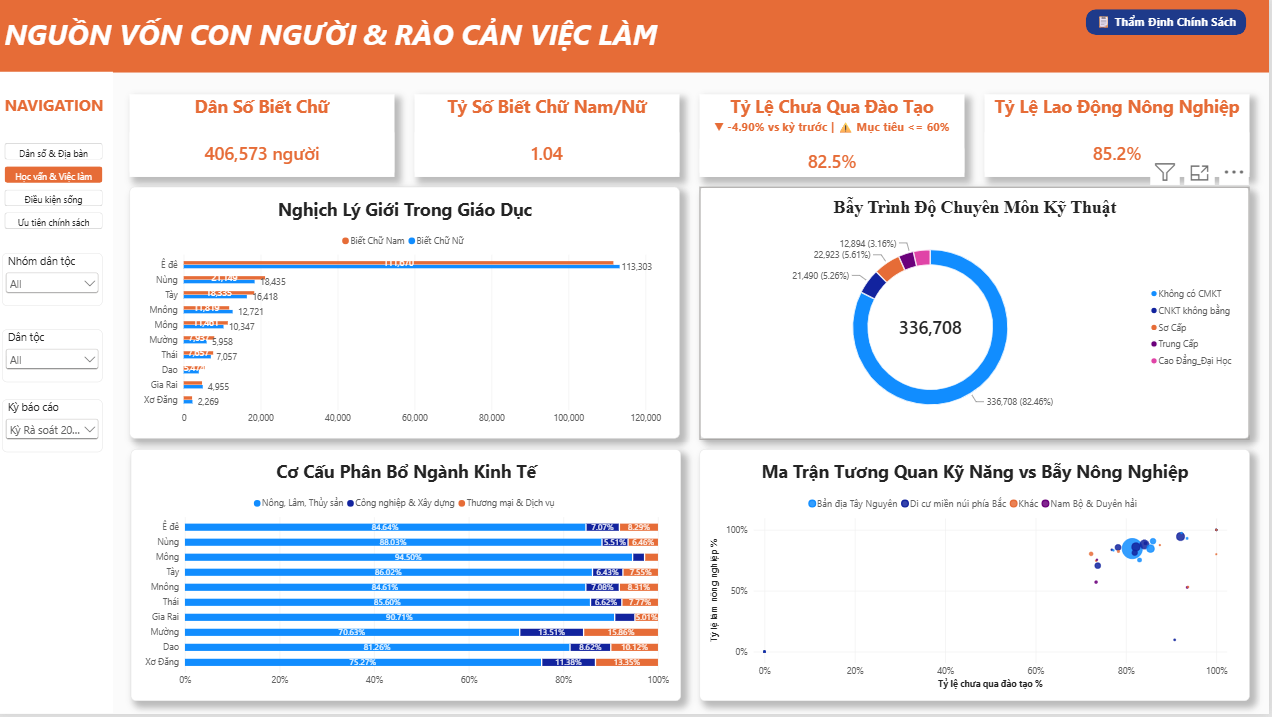

Layout of this report page (visuals, bound fields, positions):
{"tool":"powerbi","page":{"name":"Học vấn & Việc làm","canvas":[1920,1080],"ordinal":1},"visuals":[{"type":"shape","box":[0,0,1920,112.5],"z":0},{"type":"textbox","box":[11.7,25,1908.3,88.3],"z":1000},{"type":"shape","box":[0,111.7,175,968.3],"z":2000},{"type":"pageNavigator","box":[11.7,219.4,148.3,131.7],"z":3000},{"type":"textbox","box":[11.7,145,163.3,40],"z":3001},{"type":"slicer","fields":{"Values":["dim_dantoc.ten_dantoc"]},"box":[8.3,500,151.7,80],"z":3002},{"type":"slicer","fields":{"Values":["dim_dantoc.nhom_nguon_goc"]},"box":[8.3,385.6,151.7,80],"z":3003},{"type":"cardVisual","title":"Dân Số Biết Chữ","fields":{"Data":["_Measures.Literate Population"]},"box":[200,145,400,125],"z":3004},{"type":"cardVisual","title":"Tỷ Số Biết Chữ Nam/Nữ","fields":{"Data":["_Measures.Gender Literacy Ratio"]},"box":[630,145,400,125],"z":3005},{"type":"cardVisual","title":"Tỷ Lệ Chưa Qua Đào Tạo","fields":{"Data":["_Measures.Untrained Labor Rate %"]},"box":[1060,145,400,125],"z":3006},{"type":"cardVisual","title":"Tỷ Lệ Lao Động Nông Nghiệp","fields":{"Data":["_Measures.Agricultural Labor Rate %"]},"box":[1490,145,400,125],"z":3007},{"type":"clusteredBarChart","title":"Nghịch Lý Giới Trong Giáo Dục","fields":{"Category":["dim_dantoc.ten_dantoc"],"Y":["Sum(fact_giaoduc_dantoc.biet_chu_nam)","Sum(fact_giaoduc_dantoc.biet_chu_nu)"]},"box":[200,285.7,830,380],"z":3008},{"type":"donutChart","title":"Bẫy Trình Độ Chuyên Môn Kỹ Thuật","fields":{"Y":["Sum(fact_trinhdo_cmkt_dantoc.khong_co_cmkt)","Sum(fact_trinhdo_cmkt_dantoc.cnkt_khong_bang)","Sum(fact_trinhdo_cmkt_dantoc.so_cap)","Sum(fact_trinhdo_cmkt_dantoc.trung_cap)","Sum(fact_trinhdo_cmkt_dantoc.cao_dang_dai_hoc)"]},"box":[1060,285.5,830,380],"z":3009},{"type":"hundredPercentStackedBarChart","title":"Cơ Cấu Phân Bổ Ngành Kinh Tế","fields":{"Category":["dim_dantoc.ten_dantoc"],"Y":["_Measures.Agricultural Labor Force","_Measures.Industrial Labor Force","_Measures.Services Labor Force"]},"box":[201.4,681.4,830,380],"z":3010},{"type":"scatterChart","title":"Ma Trận Tương Quan Kỹ Năng vs Bẫy Nông Nghiệp","fields":{"Category":["dim_dantoc.ten_dantoc"],"Series":["dim_dantoc.nhom_nguon_goc"],"Size":["_Measures.Total Employed Labor Force"],"X":["_Measures.Untrained Labor Rate %"],"Y":["_Measures.Agricultural Labor Rate %"]},"box":[1060,681,830,380],"z":3011},{"type":"slicer","fields":{"Values":["dim_ky_baocao.ten_ky"]},"box":[8.3,605,151.7,80],"z":3012},{"type":"actionButton","box":[1642.6,17.3,242.4,39],"z":3013}]}

Visuals, with their boxes in screenshot pixels (x1, y1, x2, y2), scaled from the page's 1920x1080 canvas onto the 1272x717 screenshot:
shape: <region>0, 0, 1271, 75</region>
textbox: <region>8, 17, 1271, 75</region>
shape: <region>0, 74, 116, 716</region>
pageNavigator: <region>8, 146, 106, 233</region>
textbox: <region>8, 96, 116, 123</region>
slicer - dim_dantoc.ten_dantoc: <region>5, 332, 106, 385</region>
slicer - dim_dantoc.nhom_nguon_goc: <region>5, 256, 106, 309</region>
"Dân Số Biết Chữ" cardVisual: <region>132, 96, 398, 179</region>
"Tỷ Số Biết Chữ Nam/Nữ" cardVisual: <region>417, 96, 682, 179</region>
"Tỷ Lệ Chưa Qua Đào Tạo" cardVisual: <region>702, 96, 967, 179</region>
"Tỷ Lệ Lao Động Nông Nghiệp" cardVisual: <region>987, 96, 1252, 179</region>
"Nghịch Lý Giới Trong Giáo Dục" clusteredBarChart: <region>132, 190, 682, 442</region>
"Bẫy Trình Độ Chuyên Môn Kỹ Thuật" donutChart: <region>702, 190, 1252, 442</region>
"Cơ Cấu Phân Bổ Ngành Kinh Tế" hundredPercentStackedBarChart: <region>133, 452, 683, 705</region>
"Ma Trận Tương Quan Kỹ Năng vs Bẫy Nông Nghiệp" scatterChart: <region>702, 452, 1252, 704</region>
slicer - dim_ky_baocao.ten_ky: <region>5, 402, 106, 455</region>
actionButton: <region>1088, 11, 1249, 37</region>
